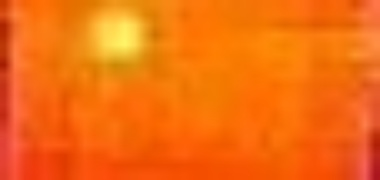Hotspot: (82, 1, 154, 62)
